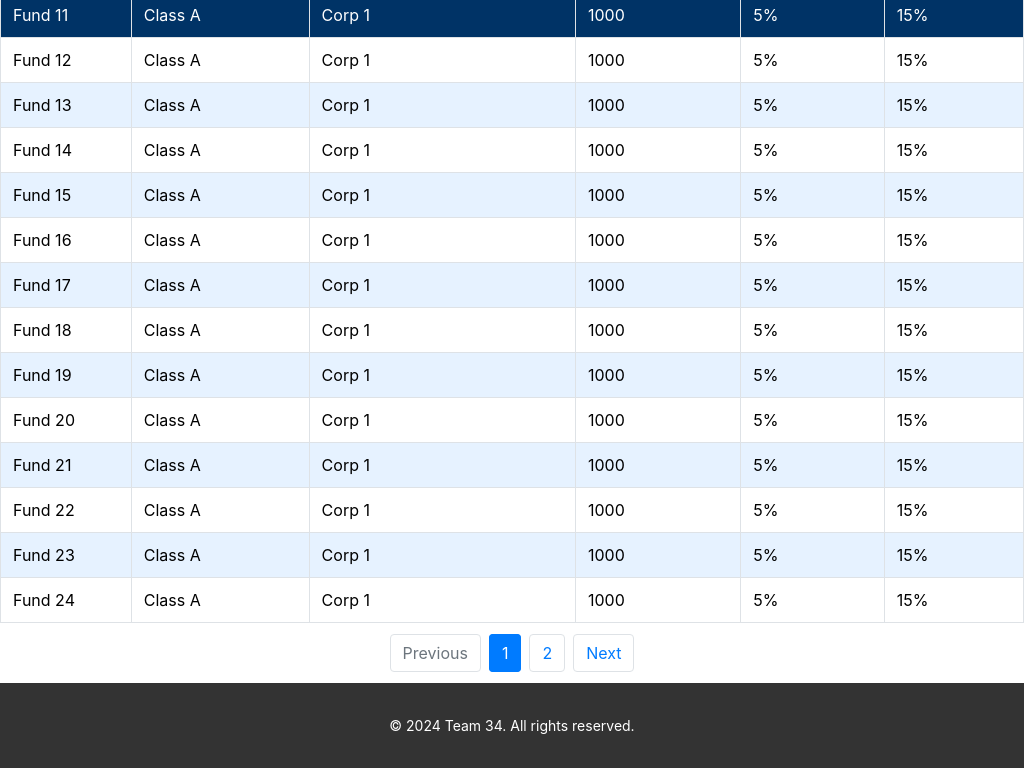
Test: Home Component › pagination changes page
(page scrolled)
Click the link "Next".
click(604, 653)  # box top-left (573, 634), bottom-right (634, 672)
(page scrolled)
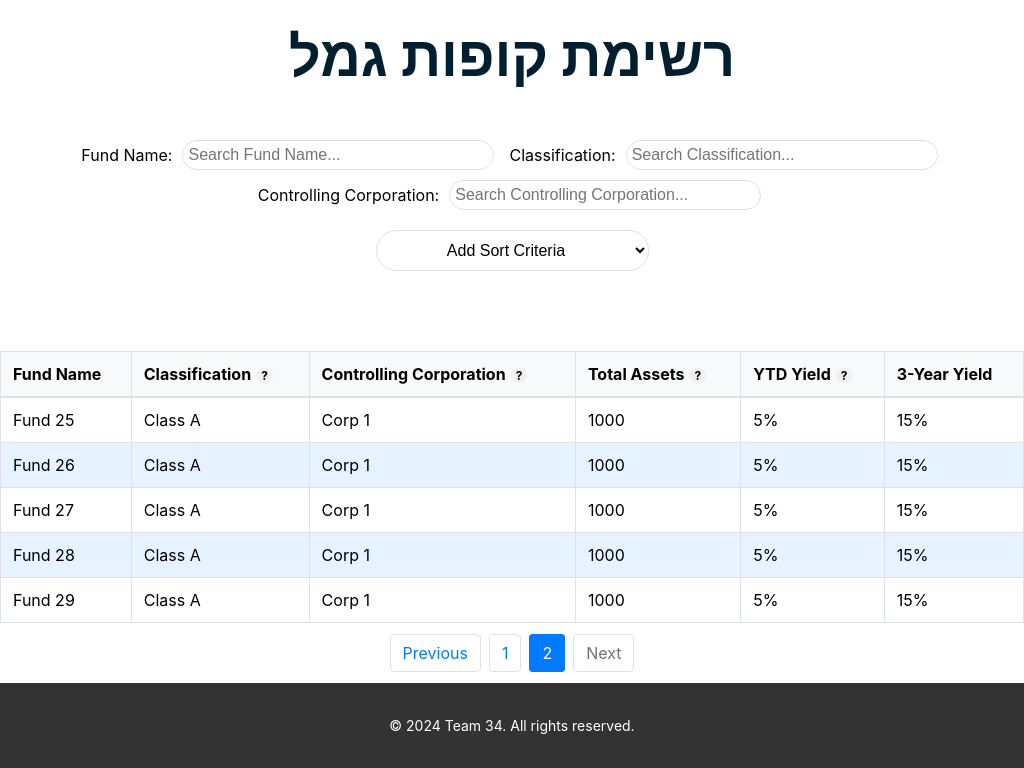
Now the text "Fund 25" is shown, box top-left (0, 397), bottom-right (131, 443)
